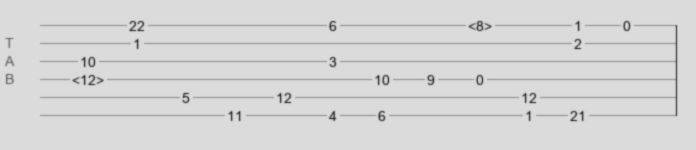0: (476, 72, 484, 82), (623, 18, 631, 28)
1: (133, 36, 141, 46), (525, 108, 533, 118), (574, 18, 582, 28)
10: (80, 54, 96, 64), (374, 72, 390, 82)
11: (227, 108, 243, 118)
12: (276, 90, 292, 100), (521, 90, 537, 100)
2: (574, 36, 582, 46)
21: (570, 108, 586, 118)
22: (129, 18, 145, 28)
3: (329, 54, 337, 64)
4: (329, 108, 337, 118)
5: (182, 90, 190, 100)
6: (329, 18, 337, 28), (378, 108, 386, 118)
9: (427, 72, 435, 82)
harmonic: (72, 72, 104, 82), (468, 18, 492, 28)
